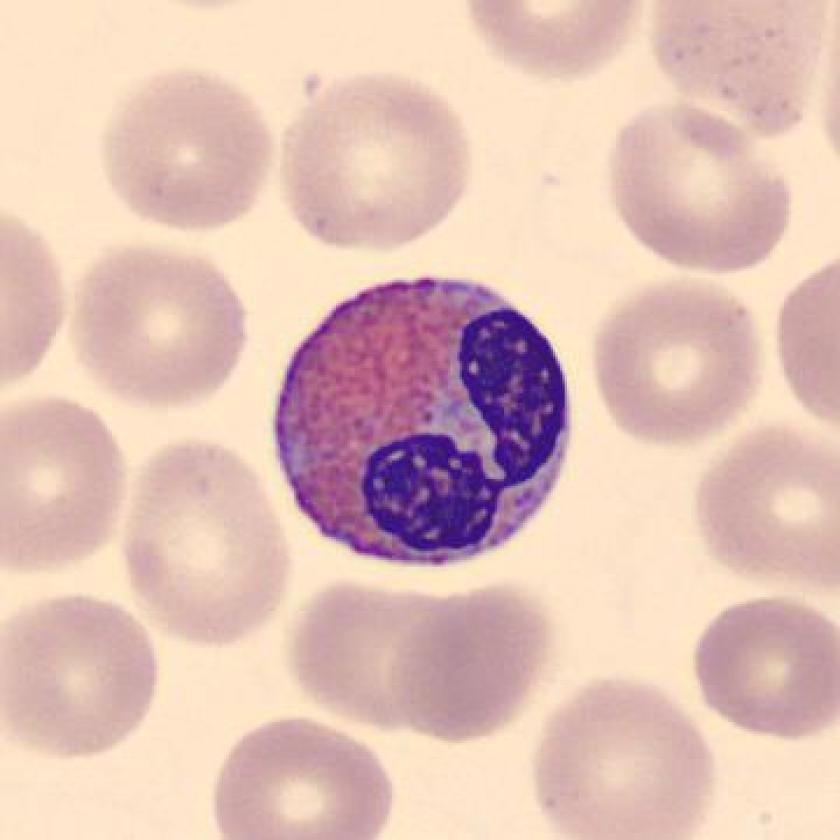eosinophil: (256, 258, 585, 589)
